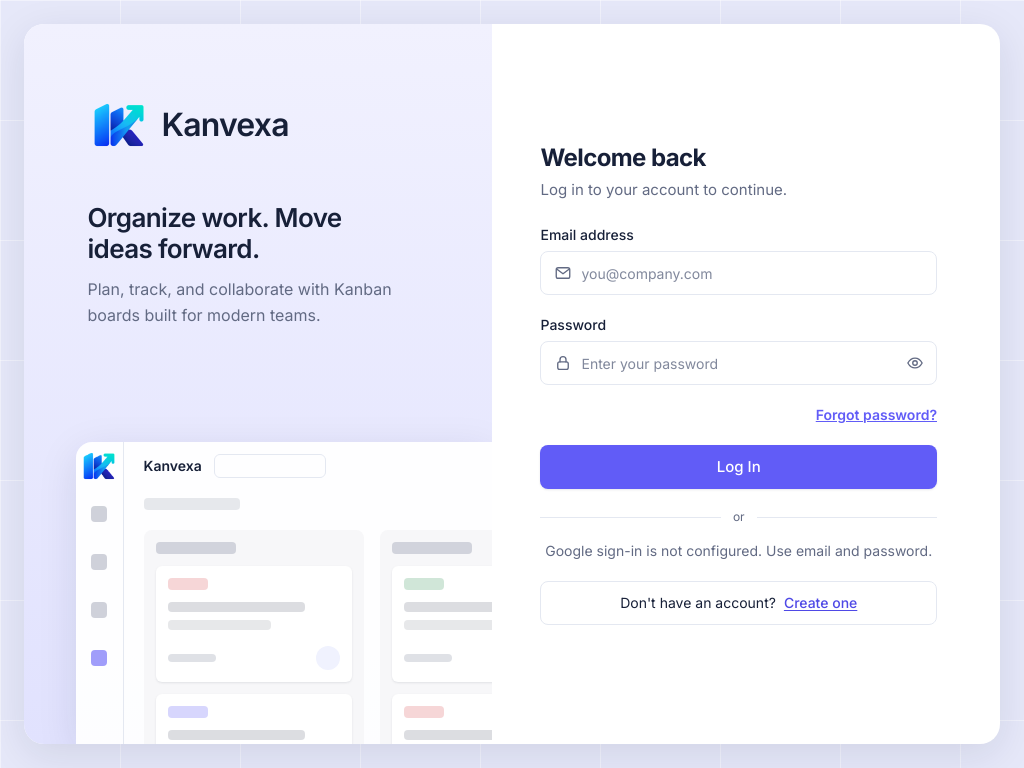
Test: LoginPage › validates input before sending a request
The width and height of the screenshot is (1024, 768).
Step 1. Type "not-an-email" into the field labelled "Email address" → coordinates (739, 273), box [540,251,937,295]
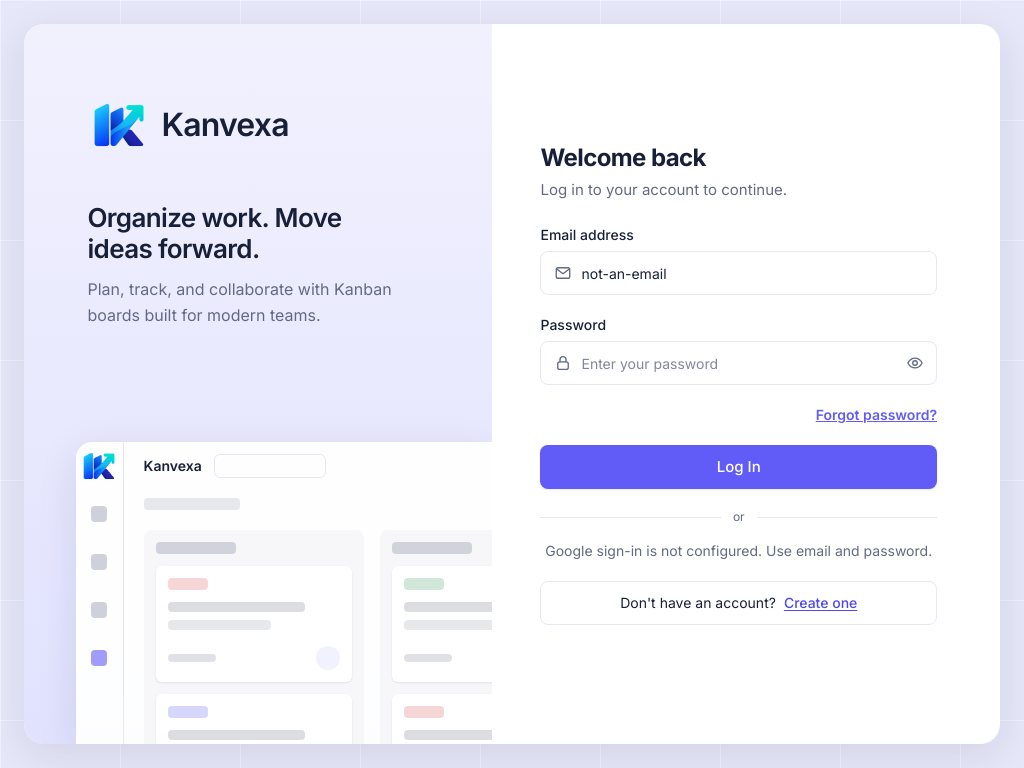
Step 2. Click the button "Log In" → coordinates (739, 467), box [540,445,937,489]
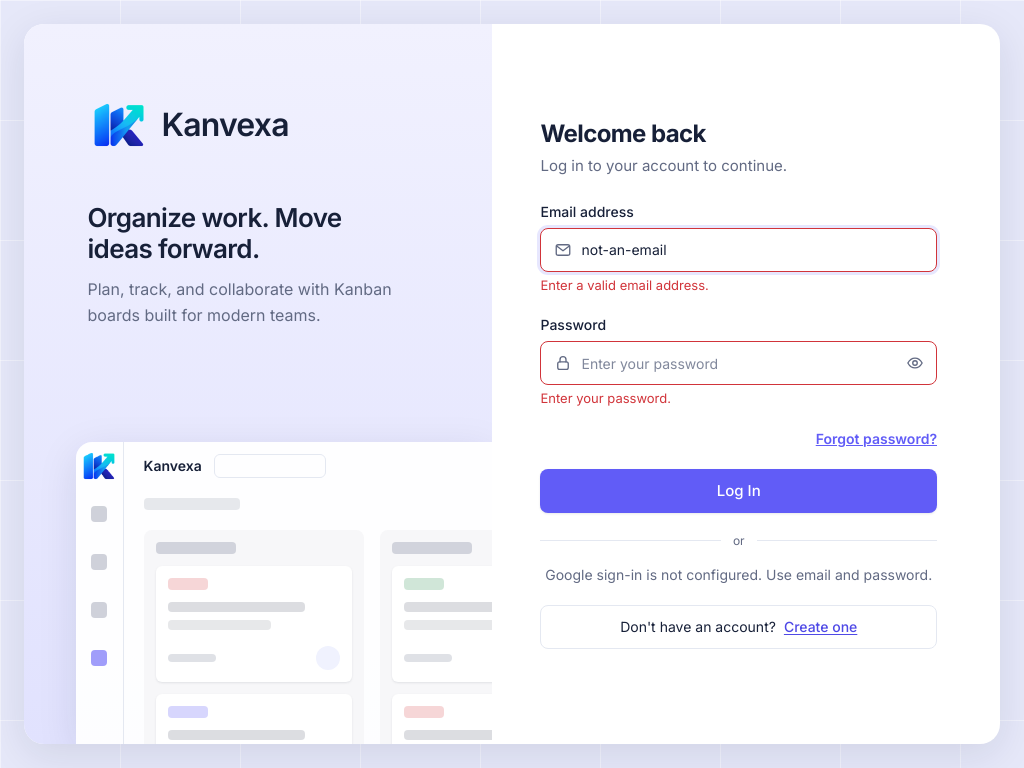
Result: the text "Enter a valid email address." is shown at [540,277,709,293]
Result: the text "Enter your password." is shown at [540,390,671,406]
